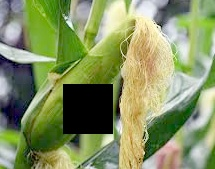corn_plant: (30, 10, 167, 150)
